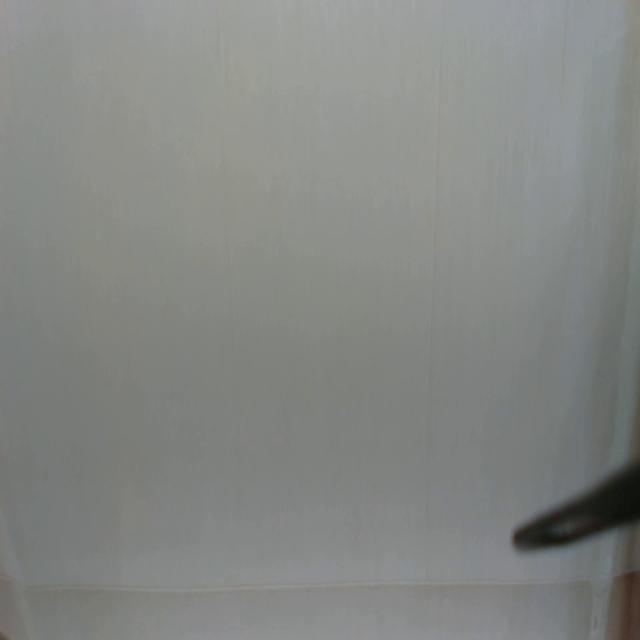color bleeding: (603, 528, 640, 640)
crease: (423, 0, 447, 581)
